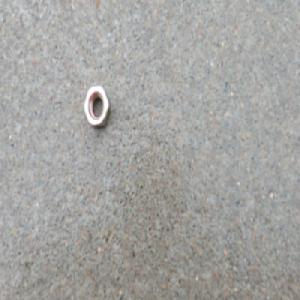Nut: (84, 83, 111, 129)
